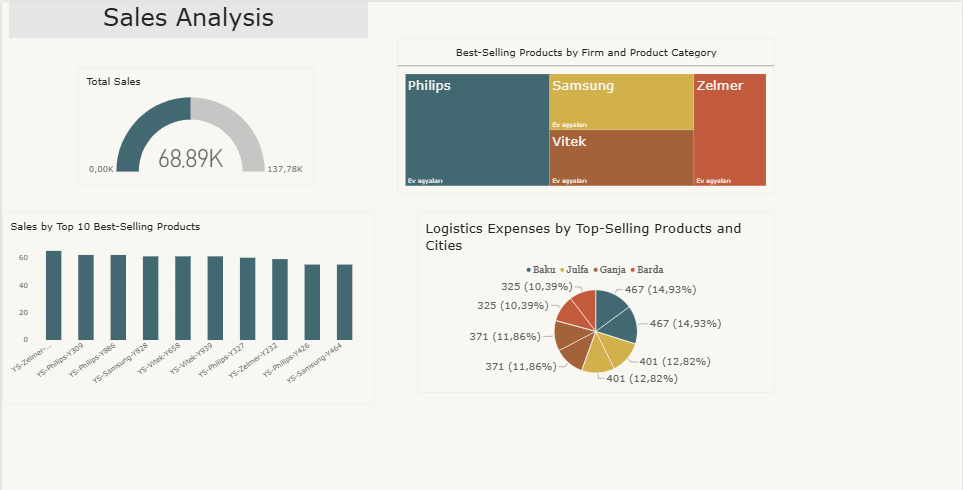

Layout of this report page (visuals, bound fields, positions):
{"tool":"powerbi","page":{"name":"Page 1","canvas":[1920,1080],"ordinal":0},"visuals":[{"type":"columnChart","title":"Sales by Top 10 Best-Selling Products","fields":{"Category":["Table2.Məhsul"],"Y":["Count(Table2.Satış Miqdar)"]},"box":[0,420,745,385],"z":0},{"type":"treemap","title":"Best-Selling Products by Firm and Product Category","fields":{"Details":["Table2.Kateqoriya"],"Group":["Table2.Firma"],"Values":["CountNonNull(Table2.Məhsul)"]},"box":[790,71.7,755,311.7],"z":1},{"type":"pieChart","title":"Logistics Expenses by Top-Selling Products and Cities","fields":{"Category":["Table2.Şəhər"],"Y":["CountNonNull(Table2.Logistika xərci)","CountNonNull(Table2.Satış Miqdar)"]},"box":[830,420,715,361.7],"z":2},{"type":"gauge","title":"Total Sales","fields":{"Y":["CountNonNull(Table2.Satış AZN)"]},"box":[151.7,130,471.7,236.7],"z":3},{"type":"textbox","box":[13.3,0,718.3,71.7],"z":4}]}

Visuals, with their boxes on the page's 1920x1080 design canvas (x1, y1, x2, y2). These are canvas units, not pixel positions in the 963x490 screenshot, which may show the page scaled, cropped or inside an application window:
"Sales by Top 10 Best-Selling Products" columnChart: bbox=(0, 420, 745, 805)
"Best-Selling Products by Firm and Product Category" treemap: bbox=(790, 72, 1545, 383)
"Logistics Expenses by Top-Selling Products and Cities" pieChart: bbox=(830, 420, 1545, 782)
"Total Sales" gauge: bbox=(152, 130, 623, 367)
textbox: bbox=(13, 0, 732, 72)
